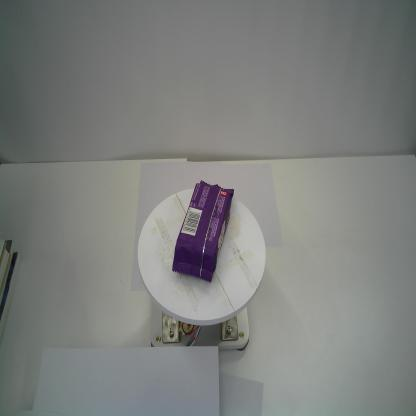Dessert: (172, 179, 235, 284)
